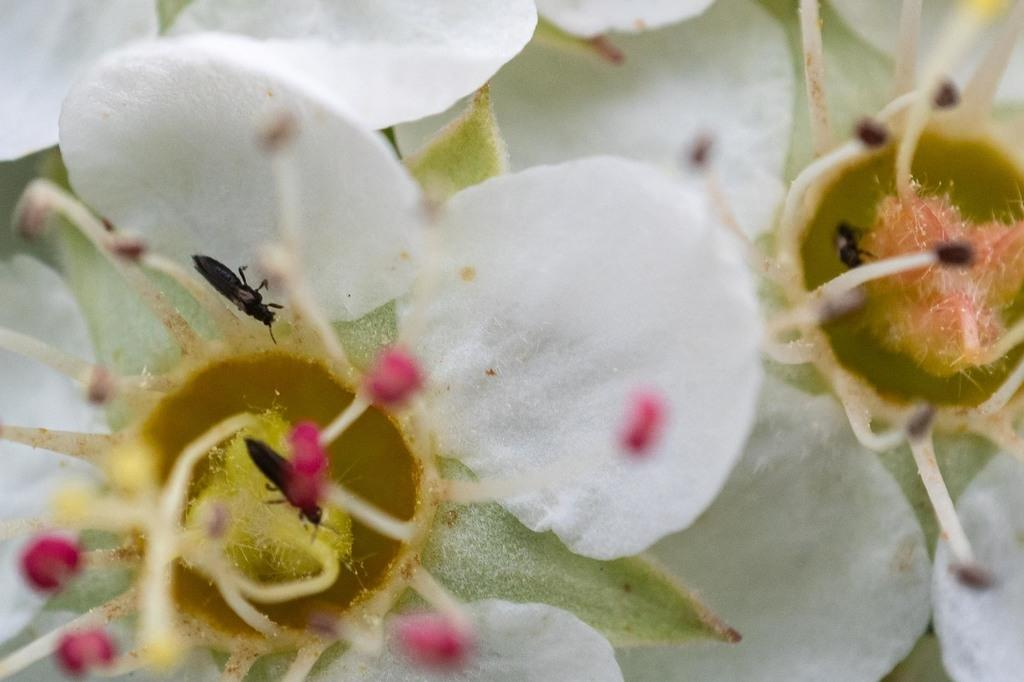tiny_pests: (167, 221, 300, 348), (231, 420, 336, 549), (806, 201, 882, 284)
